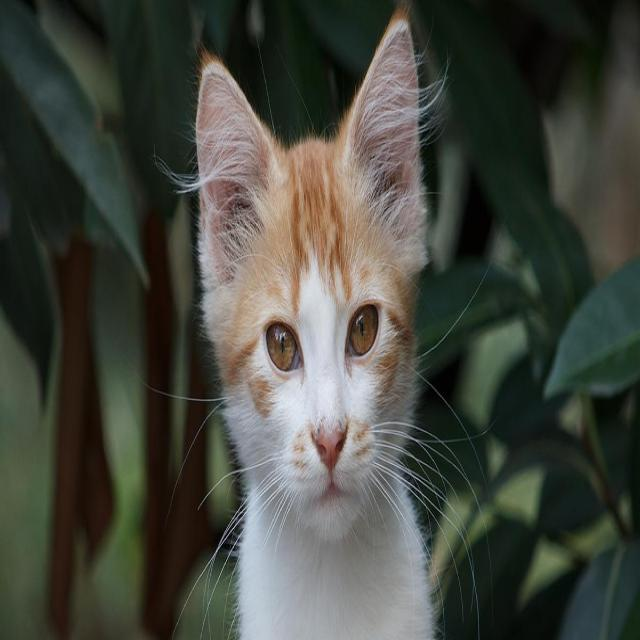Cat: (191, 11, 438, 558)
